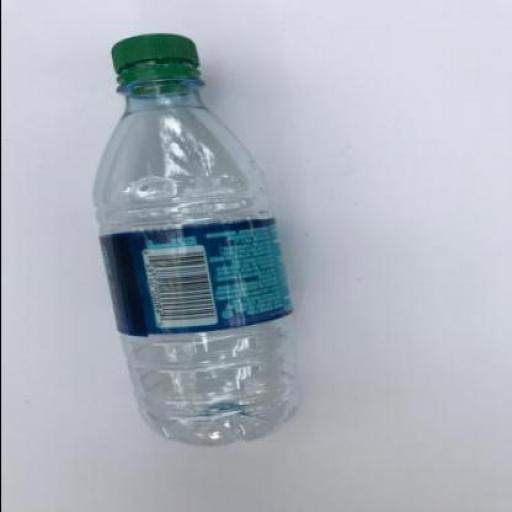plastic: (90, 33, 300, 445), (96, 214, 293, 336), (108, 33, 204, 96)
